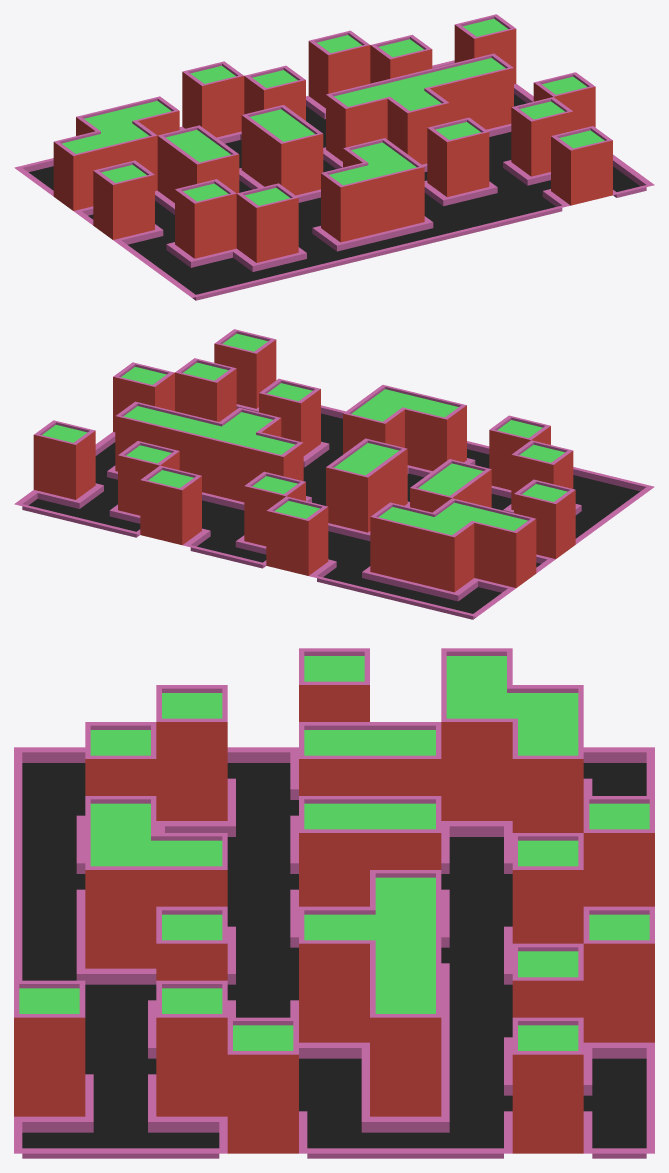
File: city.glb
3 views of the same model, one above another, from view 1: azimuth 30°, elevation 25°; view 2: azimuth 150°, elevation 25°; view 3: azimuth 270°, elevation 25° (orthographic). The views are drawn at different scales.
Parts seen in each view (by area): view 1: Plane; view 2: Plane; view 3: Plane.
Boxes of the visible parts, bbox=[...] form: Plane: bbox=[14, 14, 654, 300]; Plane: bbox=[14, 329, 654, 619]; Plane: bbox=[14, 648, 654, 1158].
Bounding box in the file's own units: 60 × 7.55 × 40.
